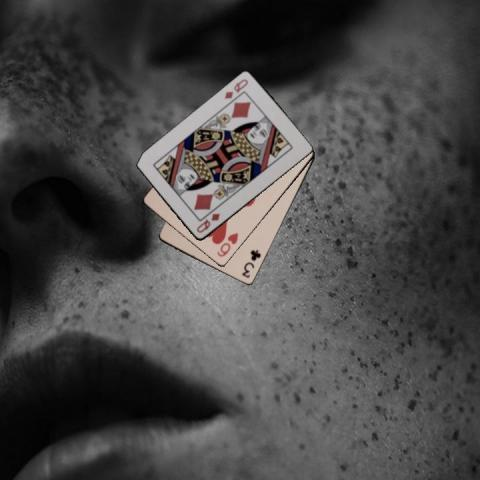3c: (239, 247, 263, 279)
6h: (214, 230, 240, 259)
Qd: (194, 210, 222, 235), (222, 76, 250, 101)
